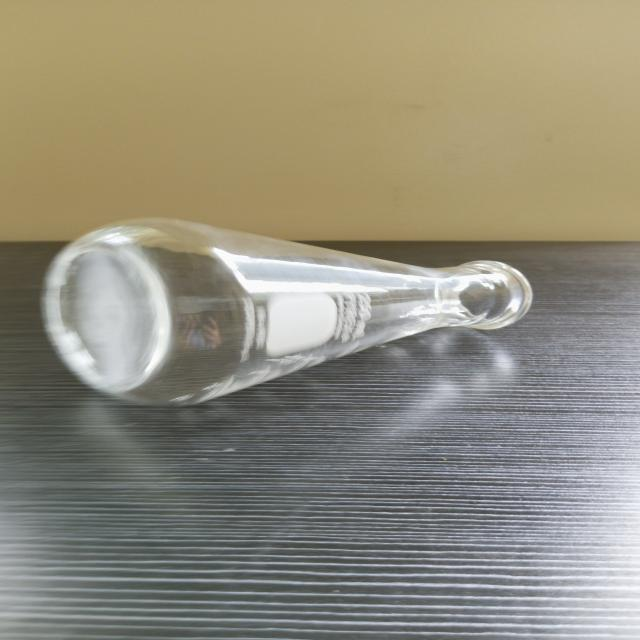erlenmeyer_flask: (39, 205, 537, 414)
